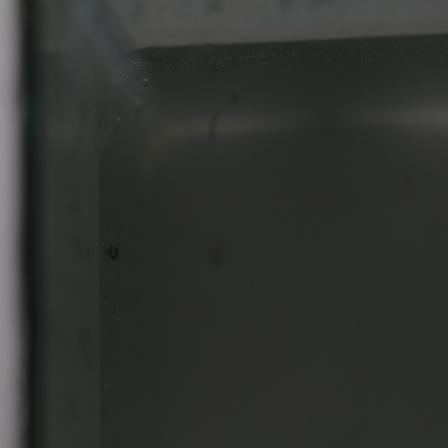Jentik-Nyamuk: (104, 239, 128, 268)
